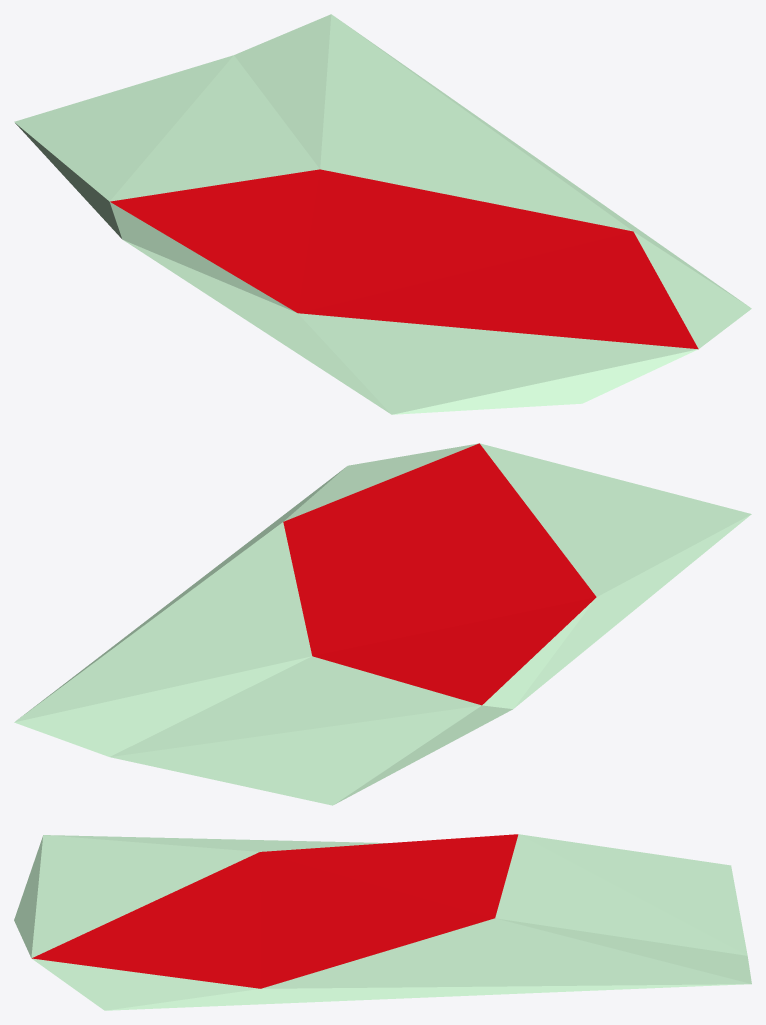
Rendered from Beach Towel 4.glb.
3 renders of one model, top to bottom at view 1: azimuth 30°, elevation 25°; view 2: azimuth 150°, elevation 25°; view 3: azimuth 270°, elevation 25°, orthographic. The views are drawn at different scales.
Visible parts, largest first — view 1: Towel 4; view 2: Towel 4; view 3: Towel 4.
Part boxes in pixels (bbox=[...]): Towel 4: bbox=[14, 14, 751, 414]; Towel 4: bbox=[14, 443, 751, 805]; Towel 4: bbox=[14, 834, 751, 1010].
Size of the model in its own units: 0.9689 by 0.0501 by 1.85.
